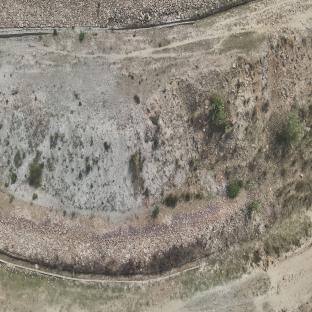rock_toe: (0, 189, 280, 264), (0, 0, 213, 25)
toe_drain: (0, 245, 240, 286), (0, 1, 249, 37)
vegetation: (274, 107, 304, 152)
